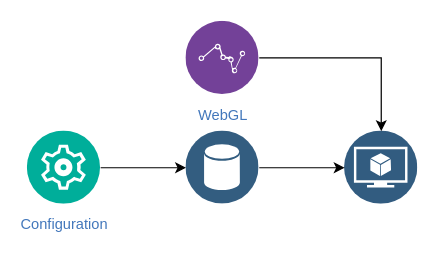
Some shapes in this 448 by 254 pixel diagram are drawn without their labels. The shapes that lost their labels are listed below. From the top down, each one's centre as x and y in pixels, then its label:
At point 222,167: "Model Data".
At point 380,167: "Visualisierung".
